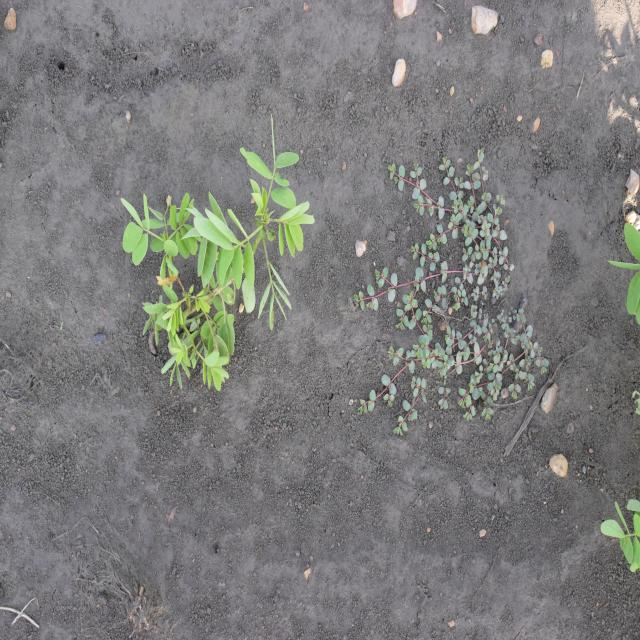Sicklepod: (119, 113, 317, 394), (600, 494, 639, 574)
SpottedSpurge: (351, 148, 550, 437)
